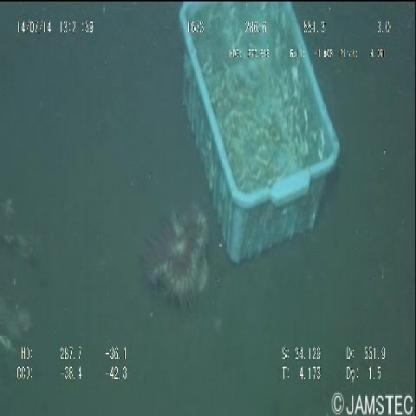Rác: (175, 2, 342, 266)
